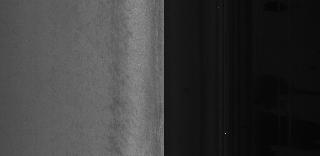silk spot: (105, 58, 139, 101)
